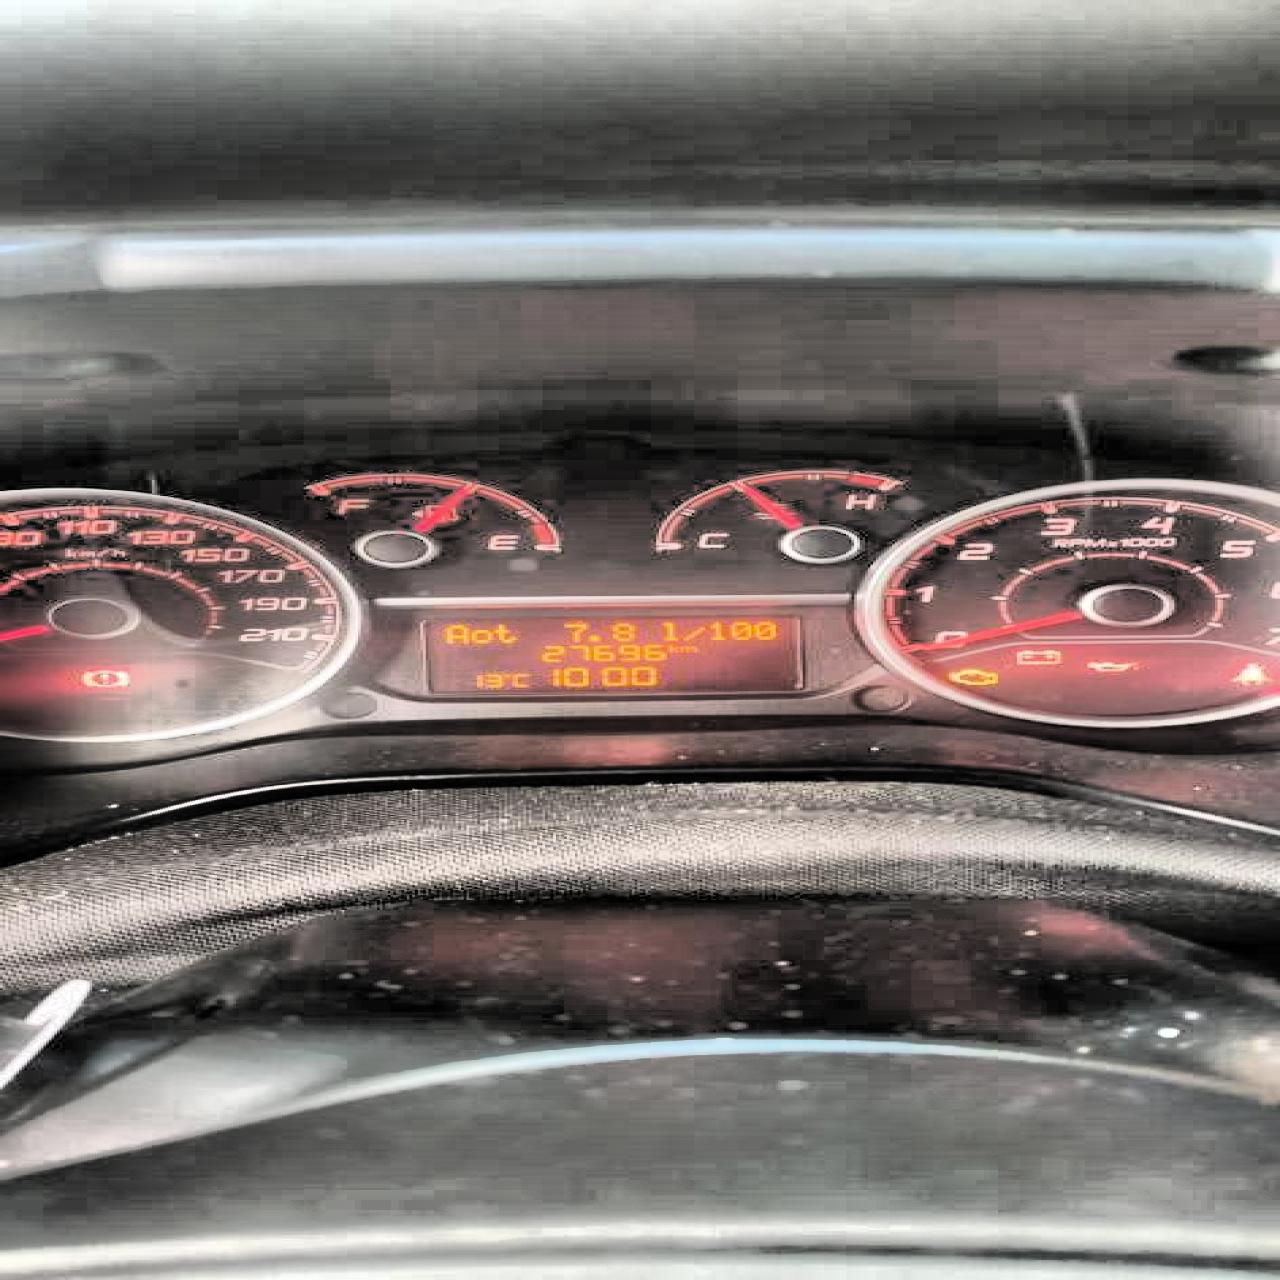-: (583, 633, 602, 641)
0: (558, 665, 588, 686), (599, 665, 626, 686), (751, 620, 776, 640), (727, 620, 751, 640), (629, 666, 654, 683)
1: (706, 620, 727, 641), (547, 666, 558, 686), (472, 673, 483, 688)
2: (539, 644, 561, 661)
3: (483, 673, 502, 688)
6: (640, 642, 665, 660), (591, 644, 613, 660)
7: (558, 620, 586, 642), (567, 644, 588, 660)
8: (607, 620, 634, 641)
9: (615, 644, 640, 661)
X: (491, 622, 516, 642), (442, 624, 467, 644), (659, 620, 678, 640), (681, 625, 702, 641), (469, 627, 491, 642), (510, 673, 529, 688), (678, 644, 694, 652), (667, 642, 678, 653)
odometer: (415, 612, 805, 696)
